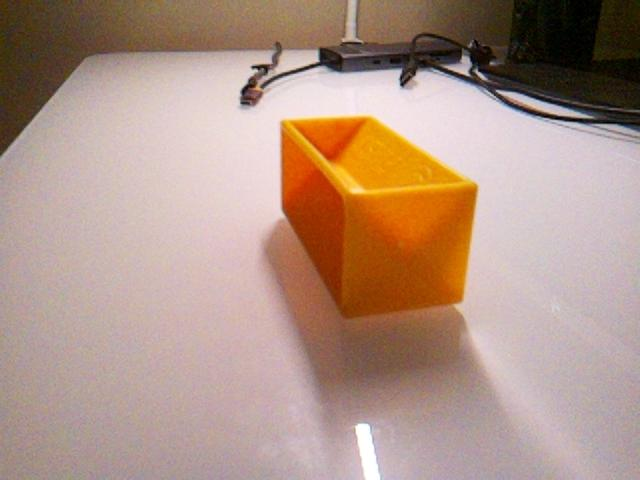yellow: (279, 114, 479, 319)
